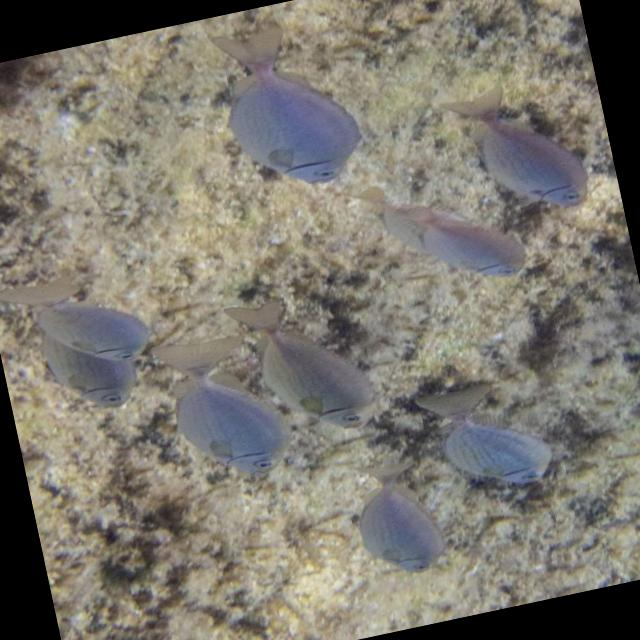Sokar Baligi: (188, 2, 390, 204), (138, 314, 308, 504), (397, 359, 566, 511)
